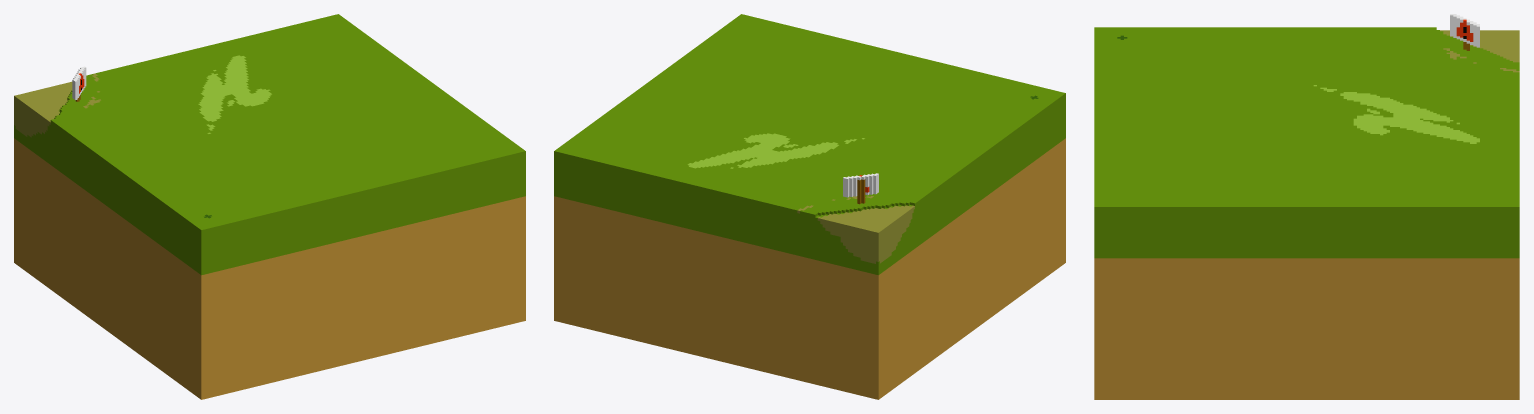
3 renders of one model, left to right at view 1: azimuth 30°, elevation 25°; view 2: azimuth 150°, elevation 25°; view 3: azimuth 270°, elevation 25°, orthographic. The views are drawn at different scales.
Parts seen in each view (by area): view 1: 10H; view 2: 10H; view 3: 10H.
Boxes of the visible parts, bbox=[...] form: 10H: bbox=[14, 14, 525, 399]; 10H: bbox=[554, 14, 1065, 399]; 10H: bbox=[1094, 14, 1519, 399].
Size of the model in its own units: 12.8 by 7.4 by 12.8.
1 material, 1 textured.
